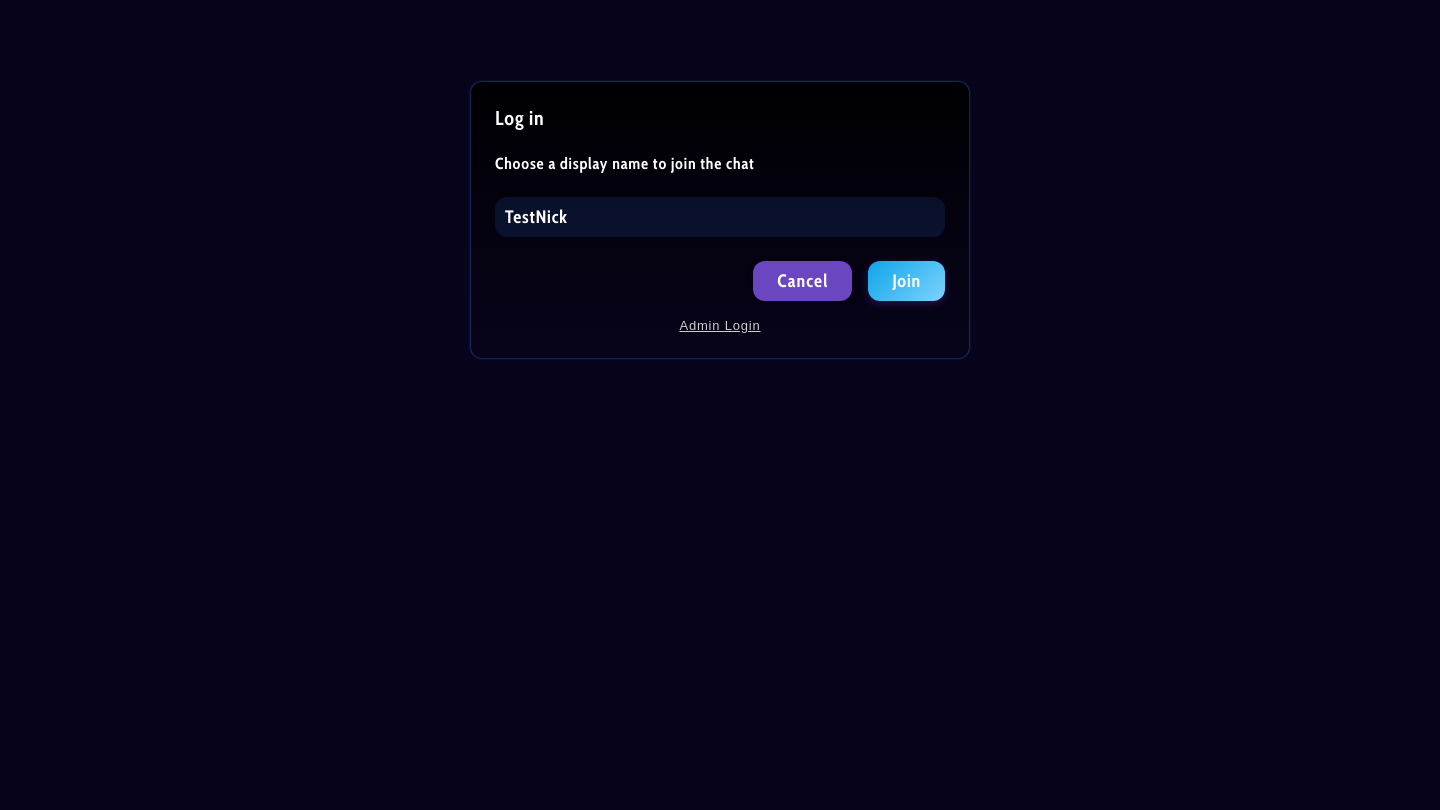
Test: LoginModal › can switch to admin mode
What coordinates should you click on to do the following:
click the button "Admin Login"
I would click on:
 (720, 326)
Its box is left=674, top=317, right=767, bottom=334.
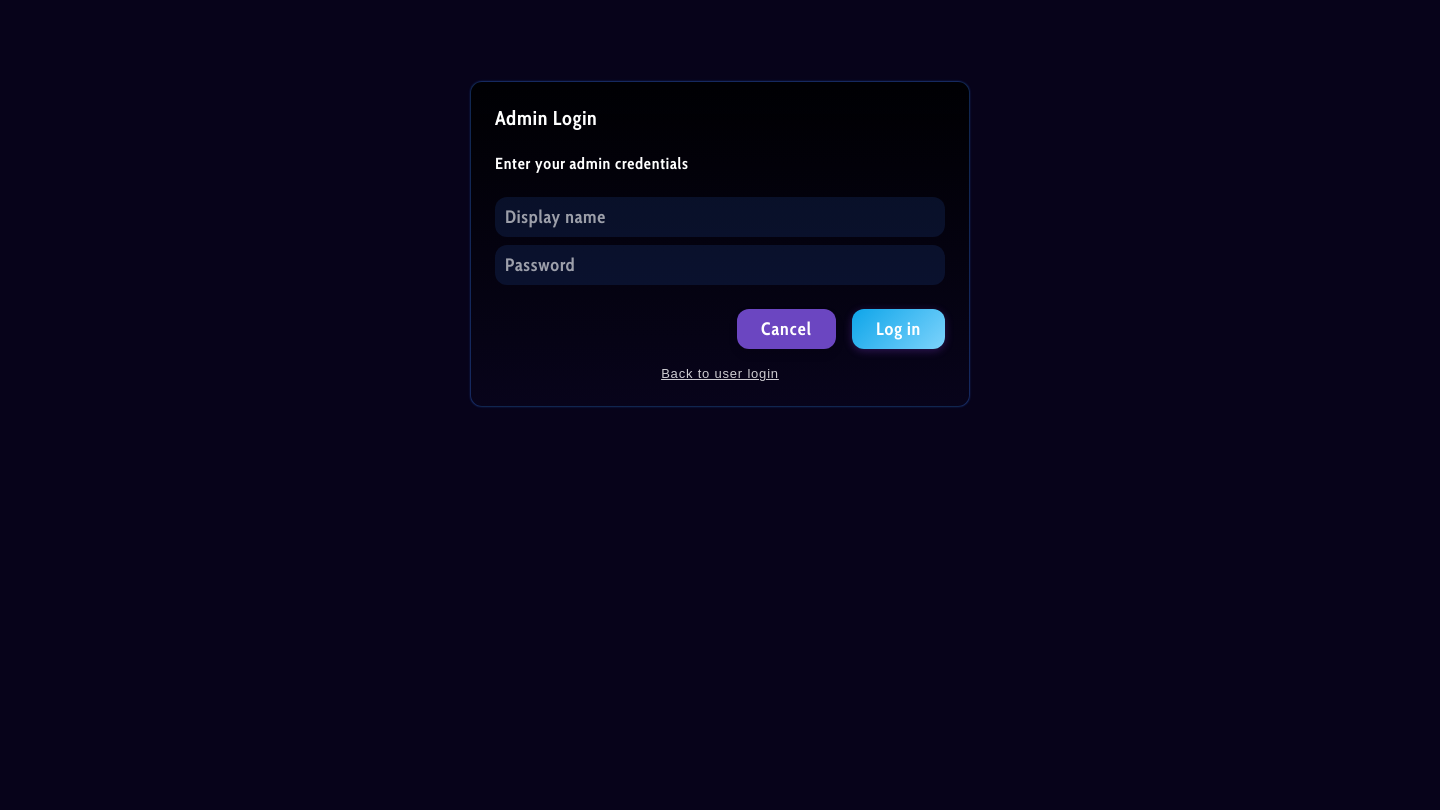
Expected: the field with placeholder "Display name" is shown, left=503, top=205, right=937, bottom=229
Now the text "Enter your admin credentials" is shown, box left=495, top=154, right=689, bottom=173
Now the password field with placeholder "Password" is shown, box left=503, top=253, right=937, bottom=277
